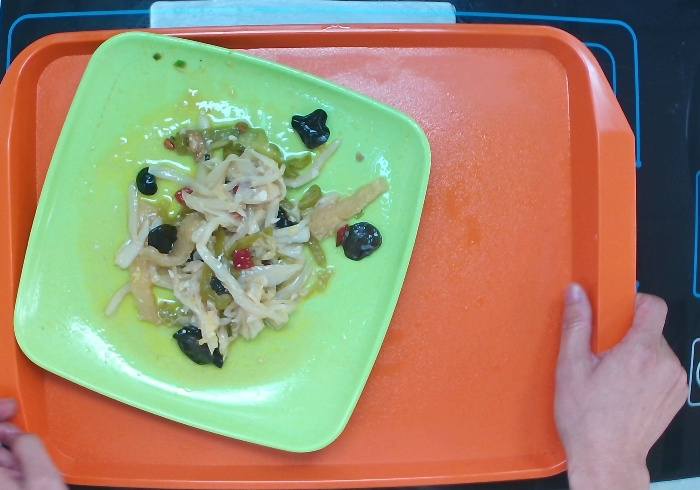ZNLD-Lv_Fang_Pan: (12, 24, 438, 462)
